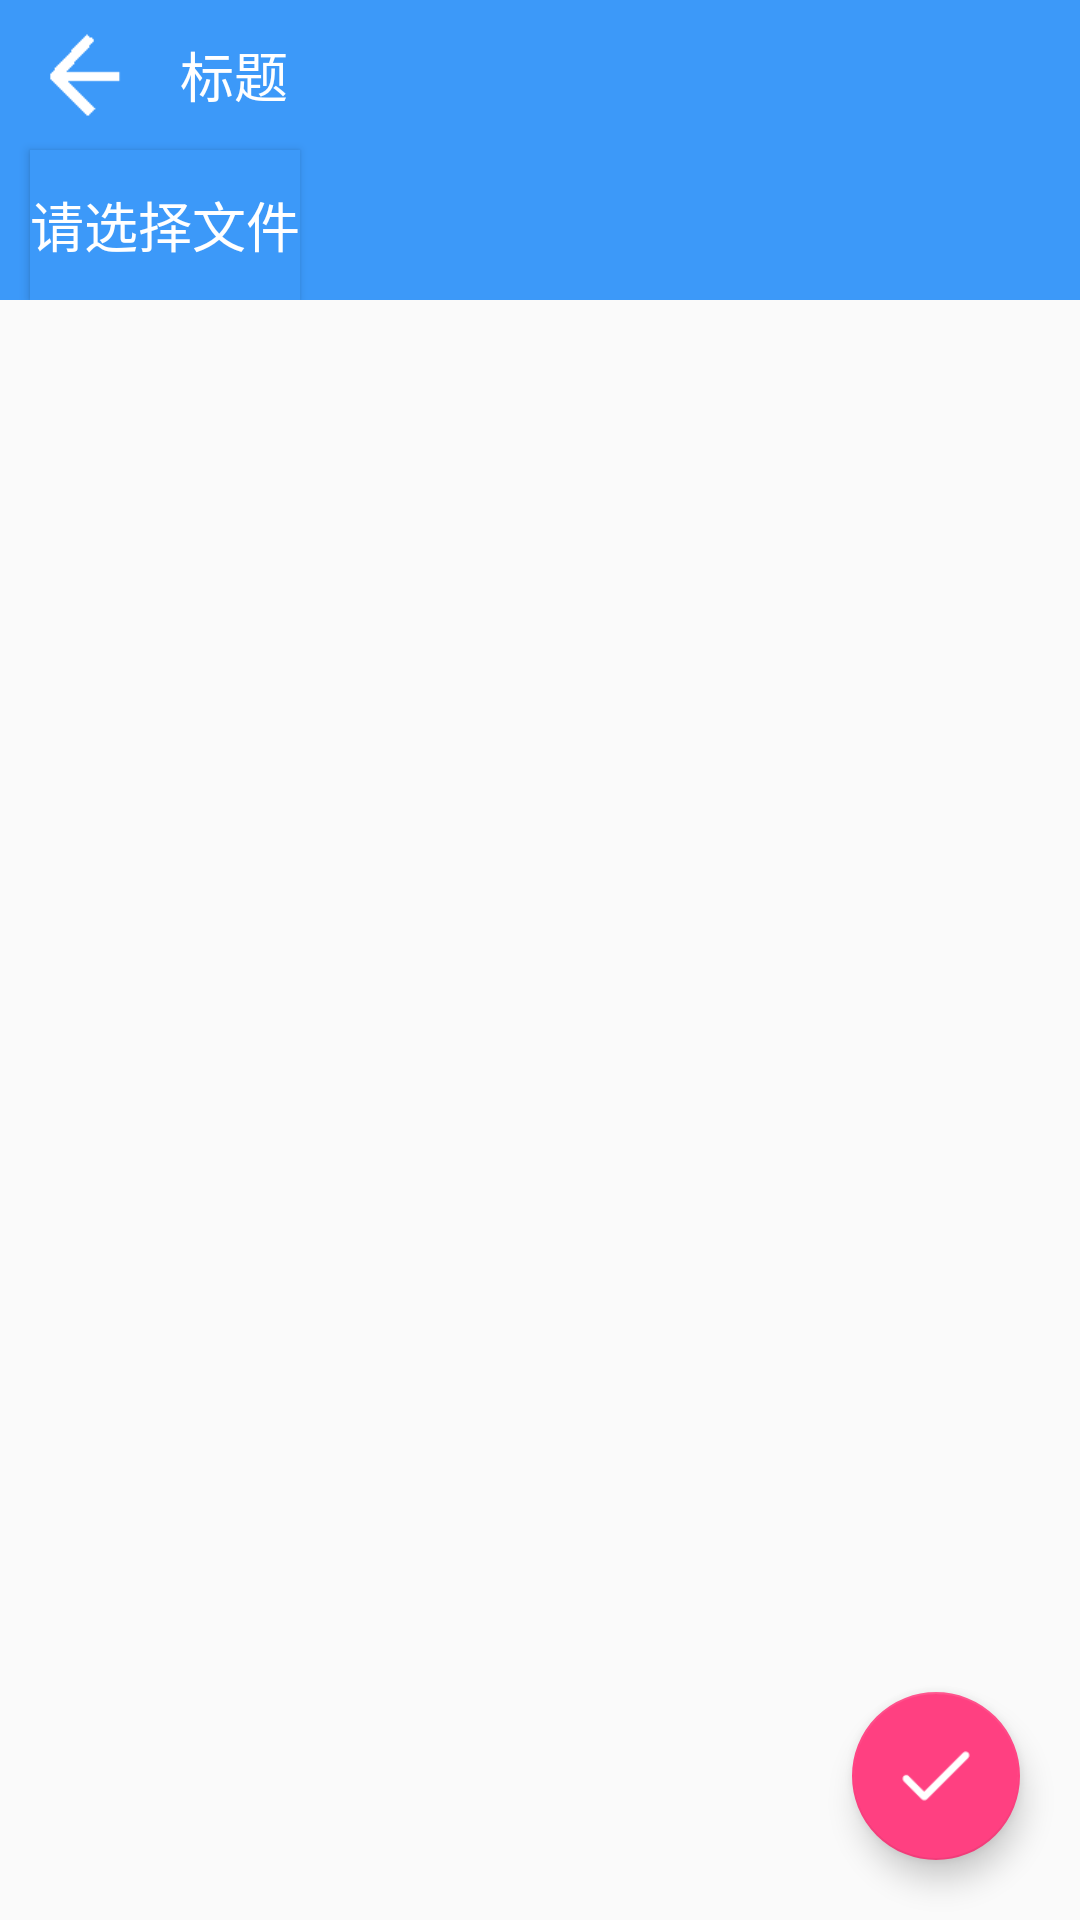

Named icons in this screenshot (1080*1920) and their centers, (x=x, y=y):
back: (x=85, y=75)
